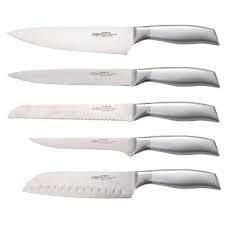kuchillu: (3, 21, 221, 55), (2, 61, 220, 95), (2, 97, 220, 131), (3, 133, 221, 167), (4, 169, 222, 203)
